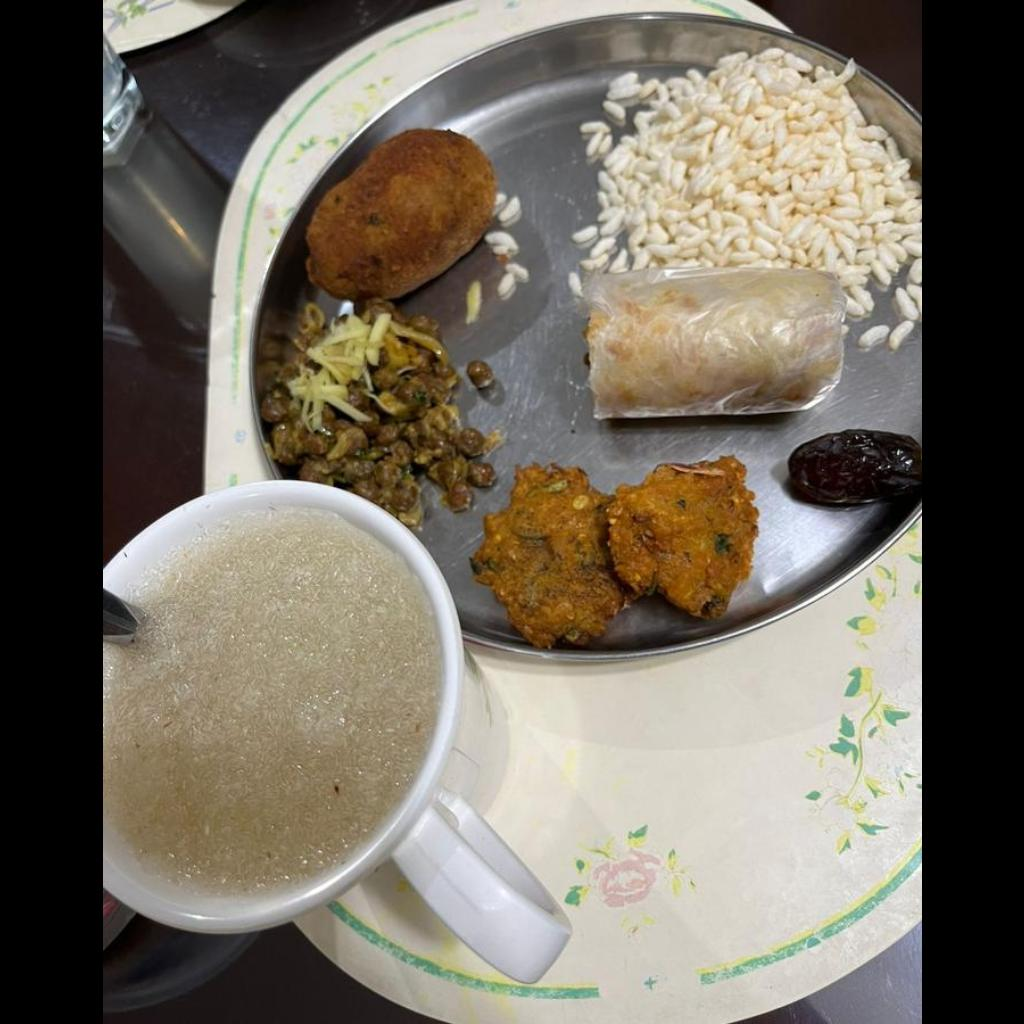chola: (257, 303, 497, 529)
chop-alu: (306, 130, 495, 302)
dates: (788, 429, 920, 506)
juice: (102, 513, 437, 880)
piyaju: (470, 456, 757, 647)
puffed-rice: (574, 48, 920, 320)
roll: (586, 267, 844, 418)
